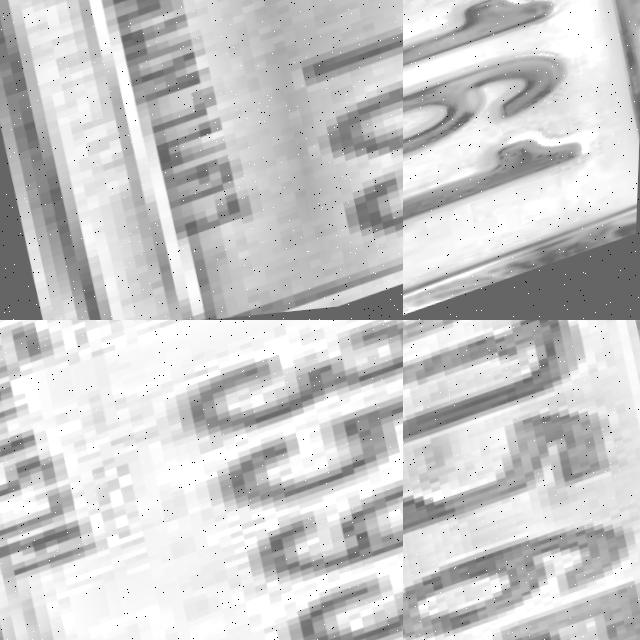license-plate: (0, 0, 403, 320), (0, 320, 403, 640), (403, 0, 640, 320), (403, 320, 640, 640)
